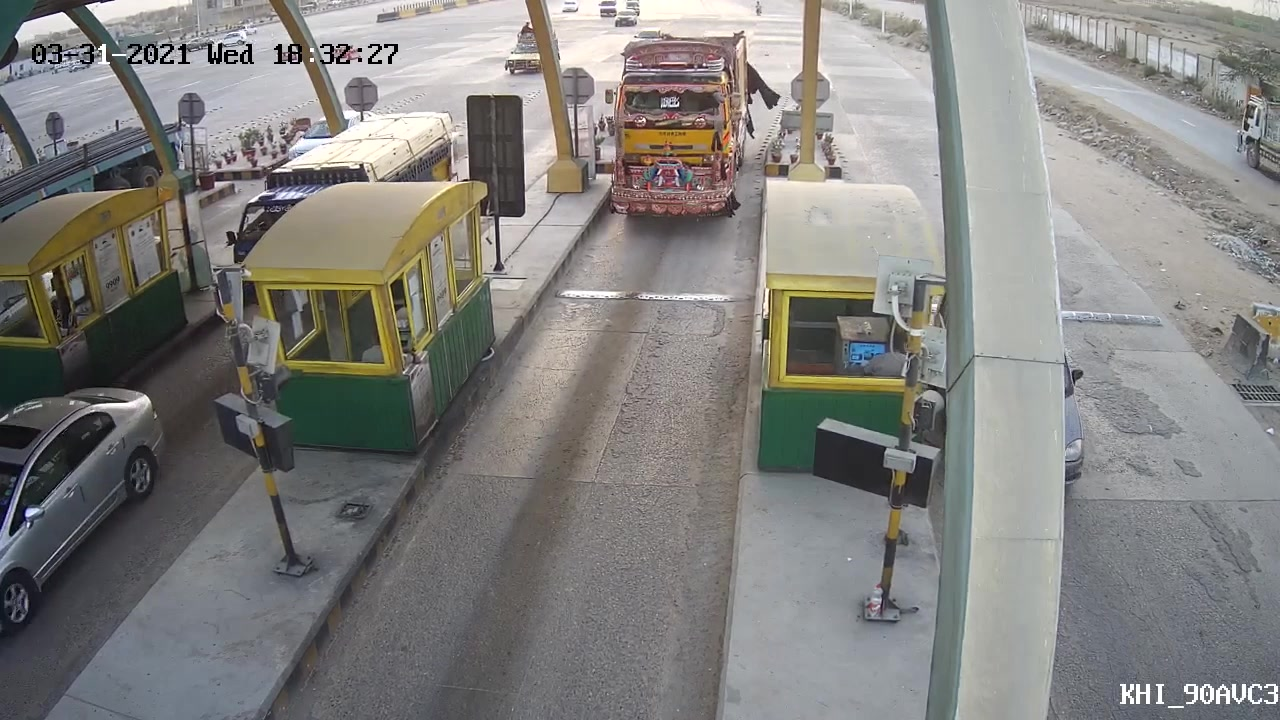F5: (589, 28, 756, 217)
